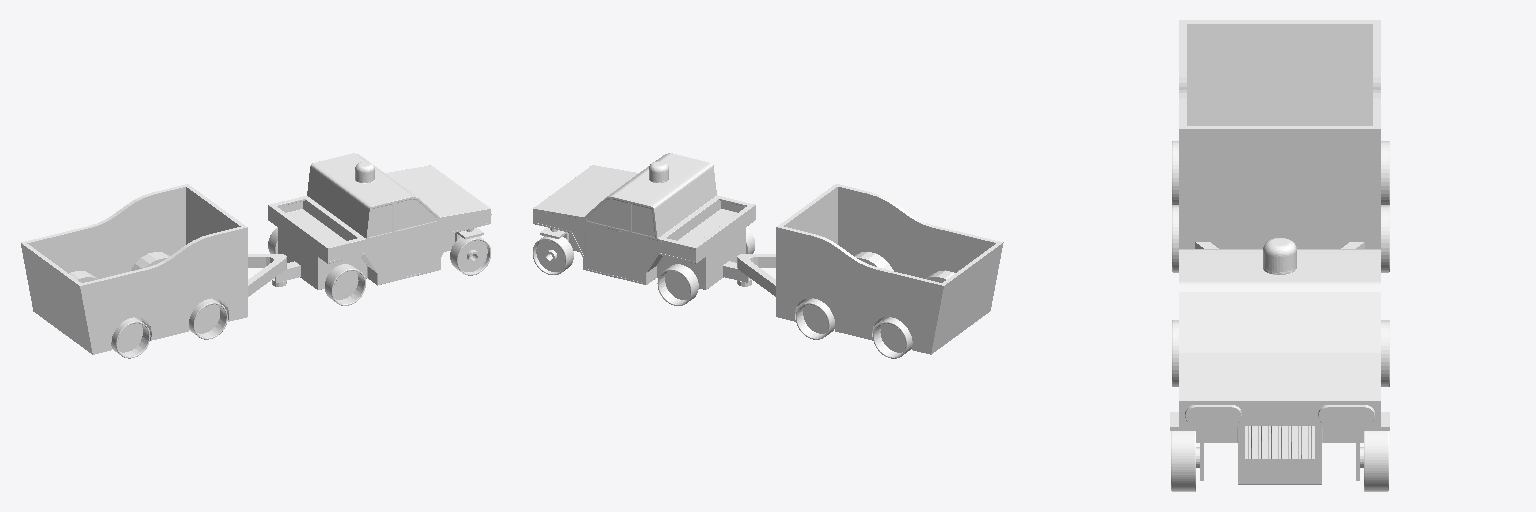
The robot description file, URDF, robot "toycar":
<?xml version="1.0" encoding="utf-8"?>
<!-- This URDF was automatically created by SolidWorks to URDF Exporter! Originally created by [author] ([email redacted]) 
     Commit Version: 1.6.0-4-g7f85cfe  Build Version: 1.6.7995.38578
     For more information, please see http://wiki.ros.org/sw_urdf_exporter -->
<robot
  name="toycar">
  <link
    name="chasis">
    <inertial>
      <origin
        xyz="0.024975925947581 -4.20756987495885E-06 0.11864503176387"
        rpy="0 0 0" />
      <mass
        value="54.8750756000207" />
      <inertia
        ixx="2.42445741544445"
        ixy="1.57861384663051E-06"
        ixz="-0.0584114974888804"
        iyy="4.58034547568856"
        iyz="1.70792236750801E-05"
        izz="5.45749697284106" />
    </inertial>
    <visual>
      <origin
        xyz="0 0 0"
        rpy="0 0 0" />
      <geometry>
        <mesh
          filename="package://toycar/meshes/chasis.STL" />
      </geometry>
      <material
        name="">
        <color
          rgba="1 1 1 1" />
      </material>
    </visual>
    <collision>
      <origin
        xyz="0 0 0"
        rpy="0 0 0" />
      <geometry>
        <mesh
          filename="package://toycar/meshes/chasis.STL" />
      </geometry>
    </collision>
  </link>
  <link
    name="Lsteer_link">
    <inertial>
      <origin
        xyz="0 -0.0168352126518257 -0.0927078194170612"
        rpy="0 0 0" />
      <mass
        value="0.57494461281035" />
      <inertia
        ixx="0.00250810030198503"
        ixy="3.18549876034167E-19"
        ixz="-2.96437285772016E-19"
        iyy="0.00241403437982035"
        iyz="-0.000119539993842074"
        izz="0.00100659805855099" />
    </inertial>
    <visual>
      <origin
        xyz="0 0 0"
        rpy="0 0 0" />
      <geometry>
        <mesh
          filename="package://toycar/meshes/Lsteer_link.STL" />
      </geometry>
      <material
        name="">
        <color
          rgba="1 1 1 1" />
      </material>
    </visual>
    <collision>
      <origin
        xyz="0 0 0"
        rpy="0 0 0" />
      <geometry>
        <mesh
          filename="package://toycar/meshes/Lsteer_link.STL" />
      </geometry>
    </collision>
  </link>
  <joint
    name="Lsteer_joint"
    type="revolute">
    <origin
      xyz="0.4075 0.27965 0.1778"
      rpy="0 0 0" />
    <parent
      link="chasis" />
    <child
      link="Lsteer_link" />
    <axis
      xyz="0 0 1" />
    <limit
      lower="-1.047"
      upper="1.047"
      effort="50"
      velocity="10" />
    <dynamics
      damping="0.1"
      friction="0.1" />
  </joint>
  <link
    name="LFWcar_link">
    <inertial>
      <origin
        xyz="-1.11022302462516E-16 0.00495299999999999 2.77555756156289E-17"
        rpy="0 0 0" />
      <mass
        value="1.0295734289742" />
      <inertia
        ixx="0.00366190604021718"
        ixy="-7.253056459933E-19"
        ixz="-1.68917639682057E-20"
        iyy="0.00686775736288754"
        iyz="1.160228447991E-20"
        izz="0.00366190604021718" />
    </inertial>
    <visual>
      <origin
        xyz="0 0 0"
        rpy="0 0 0" />
      <geometry>
        <mesh
          filename="package://toycar/meshes/LFWcar_link.STL" />
      </geometry>
      <material
        name="">
        <color
          rgba="1 1 1 1" />
      </material>
    </visual>
    <collision>
      <origin
        xyz="0 0 0"
        rpy="0 0 0" />
      <geometry>
        <mesh
          filename="package://toycar/meshes/LFWcar_link.STL" />
      </geometry>
    </collision>
  </link>
  <joint
    name="LFWcar_joint"
    type="continuous">
    <origin
      xyz="0 0.004953 -0.1397"
      rpy="0 0 0" />
    <parent
      link="Lsteer_link" />
    <child
      link="LFWcar_link" />
    <axis
      xyz="0 1 0" />
    <dynamics
      damping="0.1"
      friction="0.1" />
  </joint>
  <link
    name="Rsteer_link">
    <inertial>
      <origin
        xyz="0 0.0168352126518256 -0.0927078194170612"
        rpy="0 0 0" />
      <mass
        value="0.574944612810349" />
      <inertia
        ixx="0.00250810030198503"
        ixy="4.16599401067996E-19"
        ixz="-1.83535018889357E-19"
        iyy="0.00241403437982035"
        iyz="0.000119539993842074"
        izz="0.00100659805855099" />
    </inertial>
    <visual>
      <origin
        xyz="0 0 0"
        rpy="0 0 0" />
      <geometry>
        <mesh
          filename="package://toycar/meshes/Rsteer_link.STL" />
      </geometry>
      <material
        name="">
        <color
          rgba="1 1 1 1" />
      </material>
    </visual>
    <collision>
      <origin
        xyz="0 0 0"
        rpy="0 0 0" />
      <geometry>
        <mesh
          filename="package://toycar/meshes/Rsteer_link.STL" />
      </geometry>
    </collision>
  </link>
  <joint
    name="Rsteer_joint"
    type="revolute">
    <origin
      xyz="0.4075 -0.27965 0.1778"
      rpy="0 0 0" />
    <parent
      link="chasis" />
    <child
      link="Rsteer_link" />
    <axis
      xyz="0 0 1" />
    <limit
      lower="-1.047"
      upper="1.047"
      effort="50"
      velocity="10" />
    <dynamics
      damping="0.1"
      friction="0.1" />
  </joint>
  <link
    name="RFWcar_link">
    <inertial>
      <origin
        xyz="-1.11022302462516E-16 -0.00495299999999971 1.11022302462516E-16"
        rpy="0 0 0" />
      <mass
        value="1.0295734289742" />
      <inertia
        ixx="0.00366190604021718"
        ixy="7.17741166935487E-20"
        ixz="-3.22616672282114E-19"
        iyy="0.00686775736288754"
        iyz="-2.28032724591382E-18"
        izz="0.00366190604021718" />
    </inertial>
    <visual>
      <origin
        xyz="0 0 0"
        rpy="0 0 0" />
      <geometry>
        <mesh
          filename="package://toycar/meshes/RFWcar_link.STL" />
      </geometry>
      <material
        name="">
        <color
          rgba="1 1 1 1" />
      </material>
    </visual>
    <collision>
      <origin
        xyz="0 0 0"
        rpy="0 0 0" />
      <geometry>
        <mesh
          filename="package://toycar/meshes/RFWcar_link.STL" />
      </geometry>
    </collision>
  </link>
  <joint
    name="RFWcar_joint"
    type="continuous">
    <origin
      xyz="0 -0.004953 -0.1397"
      rpy="0 0 0" />
    <parent
      link="Rsteer_link" />
    <child
      link="RFWcar_link" />
    <axis
      xyz="0 1 0" />
    <dynamics
      damping="0.1"
      friction="0.1" />
  </joint>
  <link
    name="RWcar_link">
    <inertial>
      <origin
        xyz="-1.38777878078145E-17 -2.77555756156289E-17 -2.77555756156289E-17"
        rpy="0 0 0" />
      <mass
        value="3.14329408449046" />
      <inertia
        ixx="0.155511981185489"
        ixy="-9.56720556115731E-18"
        ixz="3.05488395539211E-19"
        iyy="0.0115881792673136"
        iyz="1.07499422845588E-18"
        izz="0.155511981185489" />
    </inertial>
    <visual>
      <origin
        xyz="0 0 0"
        rpy="0 0 0" />
      <geometry>
        <mesh
          filename="package://toycar/meshes/RWcar_link.STL" />
      </geometry>
      <material
        name="">
        <color
          rgba="1 1 1 1" />
      </material>
    </visual>
    <collision>
      <origin
        xyz="0 0 0"
        rpy="0 0 0" />
      <geometry>
        <mesh
          filename="package://toycar/meshes/RWcar_link.STL" />
      </geometry>
    </collision>
  </link>
  <joint
    name="RWcar_joint"
    type="continuous">
    <origin
      xyz="-0.3327 0.00254 0.0381"
      rpy="0 0 0" />
    <parent
      link="chasis" />
    <child
      link="RWcar_link" />
    <axis
      xyz="0 -1 0" />
    <limit
      lower="0"
      upper="0"
      effort="1000"
      velocity="10" />
    <dynamics
      damping="0.1"
      friction="0.1" />
  </joint>
  <link
    name="hinge_link">
    <inertial>
      <origin
        xyz="-0.78132389558606 1.85962356624714E-15 0.129752242427174"
        rpy="0 0 0" />
      <mass
        value="54.7539865578095" />
      <inertia
        ixx="3.66810627316164"
        ixy="2.24810919232119E-15"
        ixz="-0.152403907922576"
        iyy="7.72211205786556"
        iyz="-5.42414946047012E-16"
        izz="9.22784316705244" />
    </inertial>
    <visual>
      <origin
        xyz="0 0 0"
        rpy="0 0 0" />
      <geometry>
        <mesh
          filename="package://toycar/meshes/hinge_link.STL" />
      </geometry>
      <material
        name="">
        <color
          rgba="1 1 1 1" />
      </material>
    </visual>
    <collision>
      <origin
        xyz="0 0 0"
        rpy="0 0 0" />
      <geometry>
        <mesh
          filename="package://toycar/meshes/hinge_link.STL" />
      </geometry>
    </collision>
  </link>
  <joint
    name="hinge_joint"
    type="revolute">
    <origin
      xyz="-0.557 0 0.0381"
      rpy="0 0 0" />
    <parent
      link="chasis" />
    <child
      link="hinge_link" />
    <axis
      xyz="0 0 -1" />
    <limit
      lower="-1.047"
      upper="1.047"
      effort="0"
      velocity="0" />
    <dynamics
      damping="0.1"
      friction="0.1" />
  </joint>
  <link
    name="FWtrolley_link">
    <inertial>
      <origin
        xyz="0 5.55111512312578E-17 -2.77555756156289E-17"
        rpy="0 0 0" />
      <mass
        value="3.14329408449046" />
      <inertia
        ixx="0.155511981185489"
        ixy="-2.52603298389416E-17"
        ixz="1.70420269777737E-19"
        iyy="0.0115881792673136"
        iyz="6.88865295905193E-19"
        izz="0.155511981185489" />
    </inertial>
    <visual>
      <origin
        xyz="0 0 0"
        rpy="0 0 0" />
      <geometry>
        <mesh
          filename="package://toycar/meshes/FWtrolley_link.STL" />
      </geometry>
      <material
        name="">
        <color
          rgba="1 1 1 1" />
      </material>
    </visual>
    <collision>
      <origin
        xyz="0 0 0"
        rpy="0 0 0" />
      <geometry>
        <mesh
          filename="package://toycar/meshes/FWtrolley_link.STL" />
      </geometry>
    </collision>
  </link>
  <joint
    name="FWtrolley_joint"
    type="continuous">
    <origin
      xyz="-0.592340905122494 0.00253999999999979 0"
      rpy="0 0 0" />
    <parent
      link="hinge_link" />
    <child
      link="FWtrolley_link" />
    <axis
      xyz="0 -1 0" />
    <dynamics
      damping="0.1"
      friction="0.1" />
  </joint>
  <link
    name="RWtrolley_link">
    <inertial>
      <origin
        xyz="0 2.77555756156289E-16 0"
        rpy="0 0 0" />
      <mass
        value="3.14329408449046" />
      <inertia
        ixx="0.155511981185489"
        ixy="-2.7389670791255E-18"
        ixz="1.06777441062471E-17"
        iyy="0.0115881792673136"
        iyz="3.93709043435314E-17"
        izz="0.155511981185489" />
    </inertial>
    <visual>
      <origin
        xyz="0 0 0"
        rpy="0 0 0" />
      <geometry>
        <mesh
          filename="package://toycar/meshes/RWtrolley_link.STL" />
      </geometry>
      <material
        name="">
        <color
          rgba="1 1 1 1" />
      </material>
    </visual>
    <collision>
      <origin
        xyz="0 0 0"
        rpy="0 0 0" />
      <geometry>
        <mesh
          filename="package://toycar/meshes/RWtrolley_link.STL" />
      </geometry>
    </collision>
  </link>
  <joint
    name="RWtrolley_joint"
    type="continuous">
    <origin
      xyz="-1.04954090512249 0.00253999999999993 0"
      rpy="0 0 0" />
    <parent
      link="hinge_link" />
    <child
      link="RWtrolley_link" />
    <axis
      xyz="0 -1 0" />
    <dynamics
      damping="0.1"
      friction="0.1" />
  </joint>
  <link
    name="Lidar_link">
    <inertial>
      <origin
        xyz="-0.0502486950872626 5.55111512312578E-17 0.499119713696591"
        rpy="0 0 0" />
      <mass
        value="0.590091649457795" />
      <inertia
        ixx="0.000624272686333271"
        ixy="-1.54300286232164E-22"
        ixz="-4.36032848945782E-20"
        iyy="0.000624272686333271"
        iyz="-4.66419977999995E-21"
        izz="0.000728905599655388" />
    </inertial>
    <visual>
      <origin
        xyz="0 0 0"
        rpy="0 0 0" />
      <geometry>
        <mesh
          filename="package://toycar/meshes/Lidar_link.STL" />
      </geometry>
      <material
        name="">
        <color
          rgba="1 1 1 1" />
      </material>
    </visual>
    <collision>
      <origin
        xyz="0 0 0"
        rpy="0 0 0" />
      <geometry>
        <mesh
          filename="package://toycar/meshes/Lidar_link.STL" />
      </geometry>
    </collision>
  </link>
  <joint
    name="Lidar_joint"
    type="fixed">
    <origin
      xyz="0 0 0"
      rpy="0 0 0" />
    <parent
      link="chasis" />
    <child
      link="Lidar_link" />
    <axis
      xyz="0 0 0" />
  </joint>
</robot>

--- Facts derived from the render (not from the file) ---
The picture shows the robot from 3 angles, left to right: view 1: azimuth 30°, elevation 25°; view 2: azimuth 150°, elevation 25°; view 3: azimuth 270°, elevation 25°; orthographic projection.
Robot: toycar — 10 links, 9 joints (3 revolute, 5 continuous, 1 fixed); root link chasis; default pose: every joint at zero.
Links seen in each view (by area): view 1: hinge_link, chasis, RWcar_link, FWtrolley_link, RWtrolley_link, RFWcar_link; view 2: hinge_link, chasis, RWcar_link, RWtrolley_link, FWtrolley_link, LFWcar_link; view 3: hinge_link, chasis, LFWcar_link, RFWcar_link, FWtrolley_link, RWcar_link, Lidar_link, RWtrolley_link, Lsteer_link, Rsteer_link.
Boxes of the visible links, x1=… form: hinge_link: x1=21, y1=184, x2=286, y2=354; chasis: x1=268, y1=153, x2=491, y2=289; RWcar_link: x1=268, y1=227, x2=365, y2=305; FWtrolley_link: x1=189, y1=298, x2=227, y2=339; RWtrolley_link: x1=111, y1=317, x2=150, y2=358; RFWcar_link: x1=450, y1=236, x2=490, y2=275; hinge_link: x1=737, y1=184, x2=1003, y2=354; chasis: x1=533, y1=153, x2=755, y2=289; RWcar_link: x1=657, y1=227, x2=754, y2=305; RWtrolley_link: x1=873, y1=317, x2=912, y2=358; FWtrolley_link: x1=796, y1=298, x2=834, y2=339; LFWcar_link: x1=533, y1=236, x2=573, y2=274; hinge_link: x1=1179, y1=20, x2=1380, y2=248; chasis: x1=1179, y1=249, x2=1380, y2=484; LFWcar_link: x1=1364, y1=431, x2=1388, y2=491; RFWcar_link: x1=1171, y1=431, x2=1195, y2=491; FWtrolley_link: x1=1172, y1=205, x2=1389, y2=272; RWcar_link: x1=1172, y1=320, x2=1389, y2=386; Lidar_link: x1=1263, y1=238, x2=1296, y2=271; RWtrolley_link: x1=1172, y1=141, x2=1389, y2=204; Lsteer_link: x1=1356, y1=412, x2=1389, y2=480; Rsteer_link: x1=1170, y1=412, x2=1203, y2=480.
Size in the robot's own frame: 2.44 by 0.6609 by 0.6029 metres.
10 mesh visuals loaded from 10 distinct referenced files (10 binary STL).